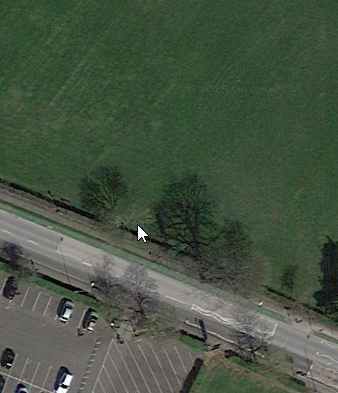tree: (194, 220, 274, 301), (58, 158, 134, 238), (148, 181, 218, 263)
